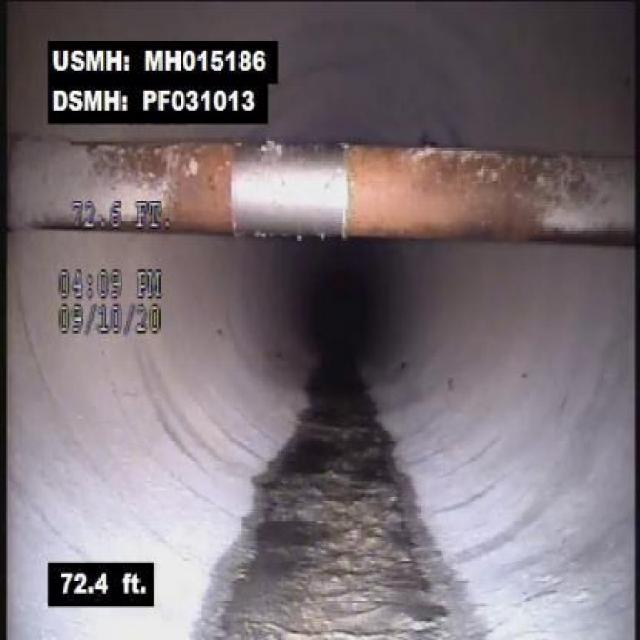Utility intrusion: (176, 128, 638, 284)
